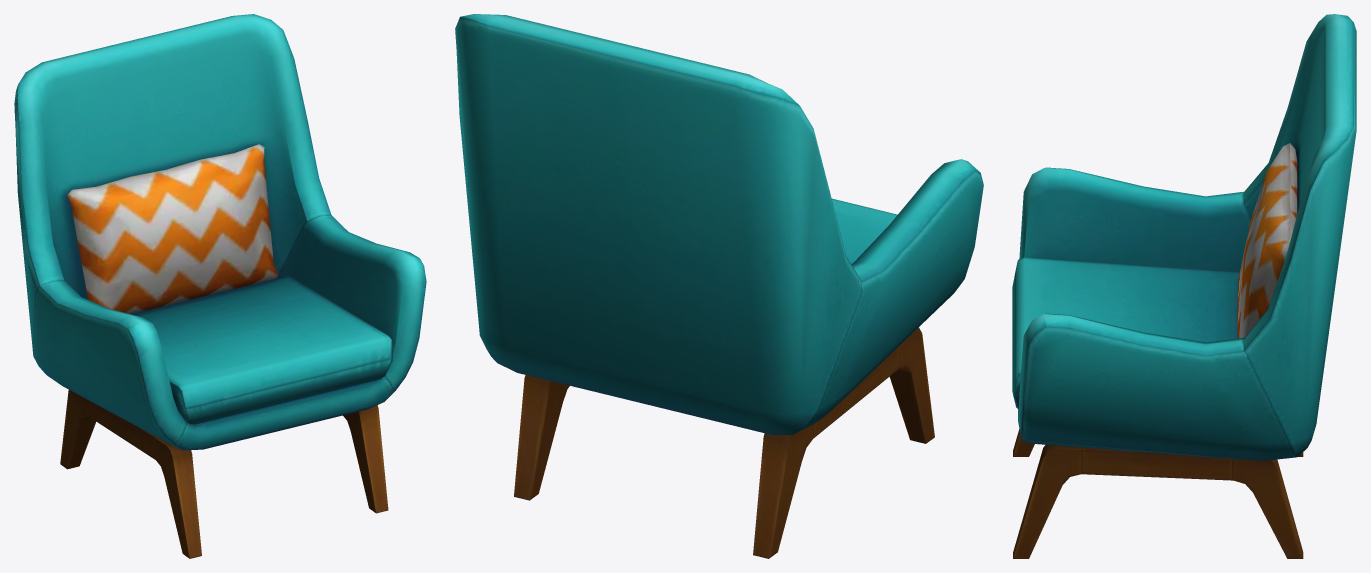
Rendered from tiny_lovely_armchair.glb.
The picture shows the model from 3 angles, left to right: view 1: azimuth 30°, elevation 25°; view 2: azimuth 150°, elevation 25°; view 3: azimuth 270°, elevation 25°; orthographic projection. The views are drawn at different scales.
Parts seen in each view (by area): view 1: Object_68; view 2: Object_68; view 3: Object_68.
Boxes of the visible parts, box(x1,y1,x2,y2) form: Object_68: box(14, 14, 426, 558); Object_68: box(455, 14, 983, 558); Object_68: box(1012, 14, 1356, 558).
Size of the model in its own units: 1.2 by 1.5 by 1.08.
1 material, 1 textured.
